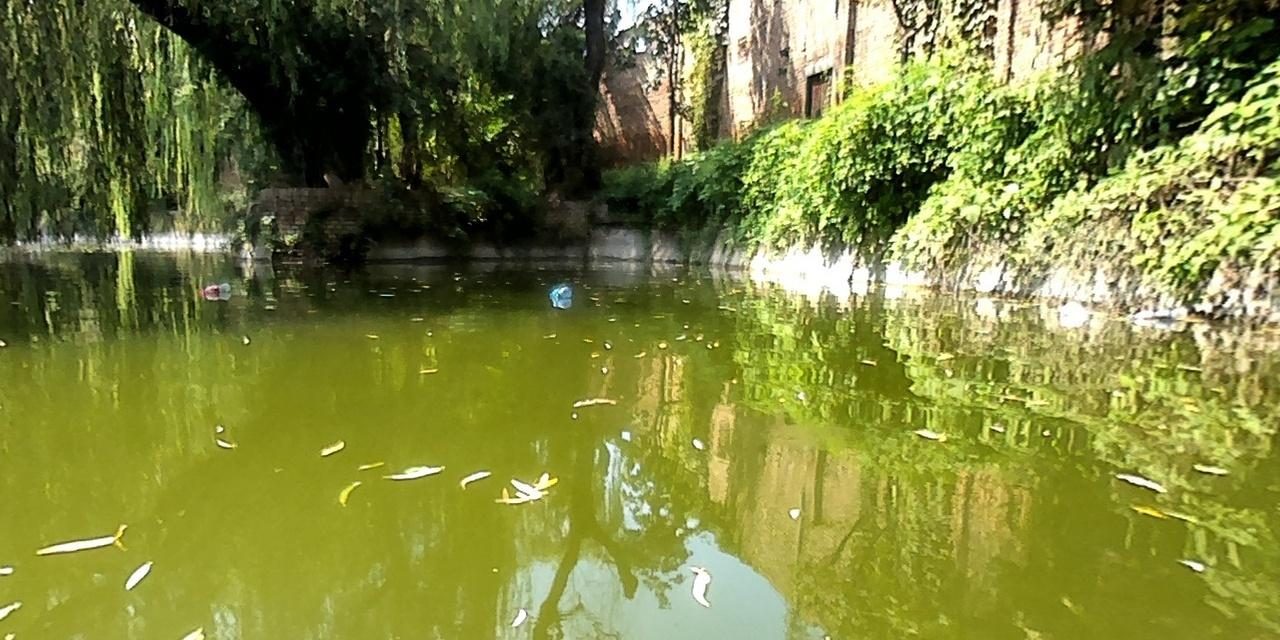bottle: (546, 281, 577, 302), (194, 281, 235, 296)
